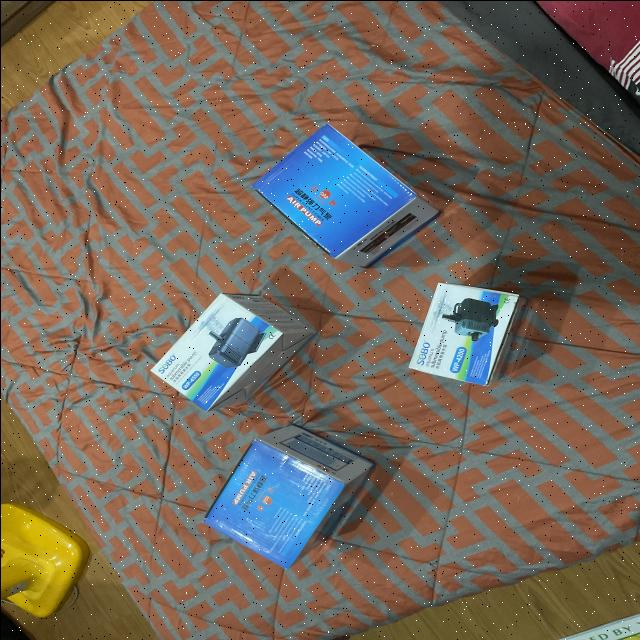SOBO_WP_4200: (148, 286, 326, 418), (401, 276, 538, 396)
YAMANO_LPP_20: (242, 127, 452, 276), (210, 421, 392, 569)
